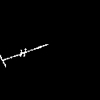treble_crochet: (0, 44, 47, 66)
